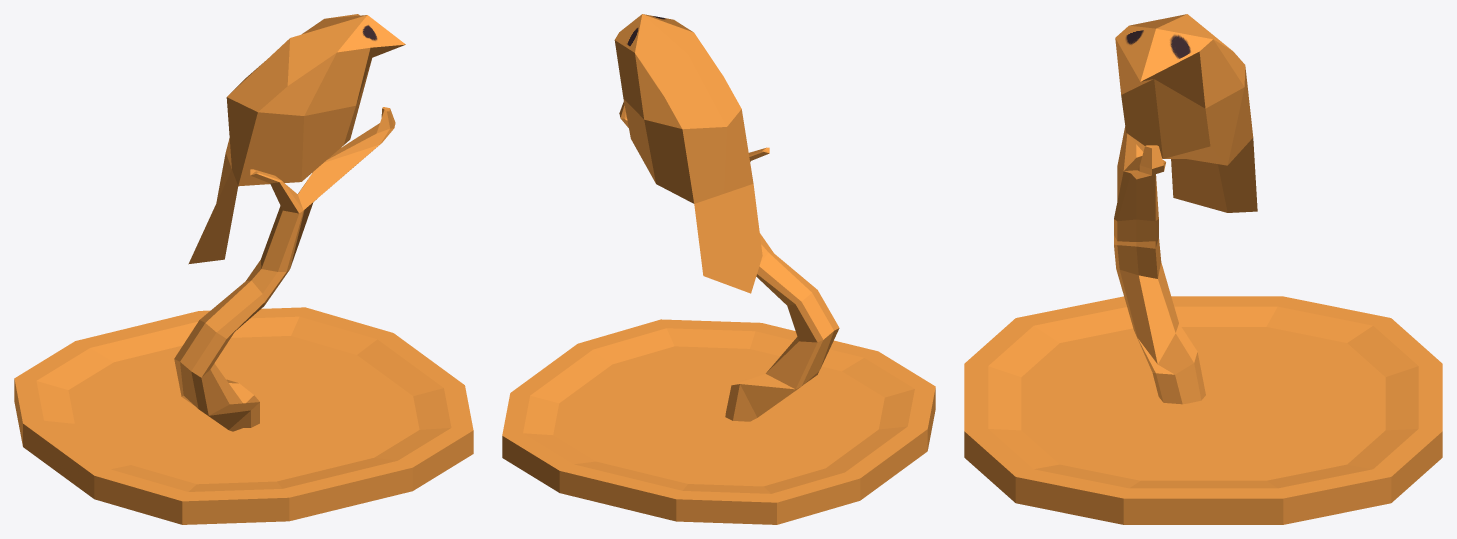
The model's file is pupu_statue.glb.
The picture shows the model from 3 angles, left to right: view 1: azimuth 30°, elevation 25°; view 2: azimuth 150°, elevation 25°; view 3: azimuth 270°, elevation 25°; orthographic projection. The views are drawn at different scales.
Parts seen in each view (by area): view 1: pupu ouro; view 2: pupu ouro; view 3: pupu ouro.
Boxes of the visible parts, left/top/right/bottom form: pupu ouro: left=14, top=14, right=473, bottom=524; pupu ouro: left=502, top=14, right=935, bottom=524; pupu ouro: left=964, top=14, right=1442, bottom=524.
Bounding box in the file's own units: 0.5008 × 0.521 × 0.5008.
Materials: 1 (1 with a texture image).
